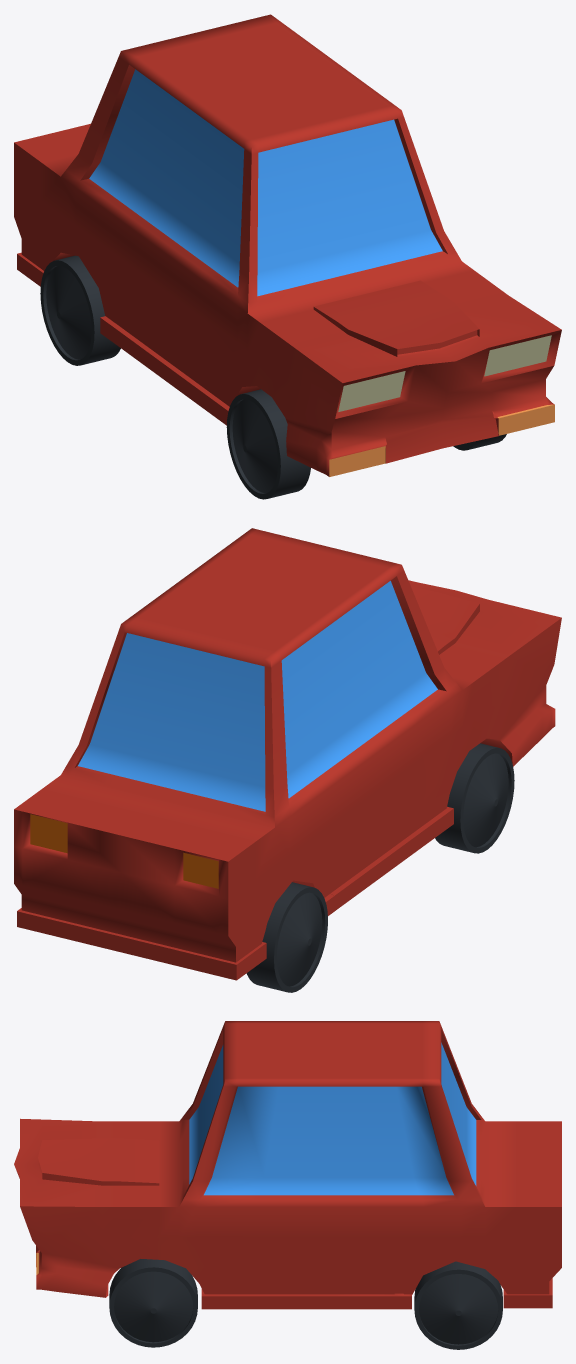
File: Car.fbx
3 renders of one model, top to bottom at view 1: azimuth 30°, elevation 25°; view 2: azimuth 150°, elevation 25°; view 3: azimuth 270°, elevation 25°, orthographic. The views are drawn at different scales.
Parts seen in each view (by area): view 1: Cube, RightFrontWheel, RightBackWheel; view 2: Cube, RightBackWheel, RightFrontWheel; view 3: Cube, LeftFrontWheel, LeftBackWheel.
Part boxes in pixels (box(x1,y1,x2,y2)): Cube: box(14, 14, 561, 476); RightFrontWheel: box(226, 389, 310, 499); RightBackWheel: box(40, 255, 120, 365); Cube: box(14, 528, 561, 980); RightBackWheel: box(246, 882, 327, 992); RightFrontWheel: box(435, 743, 514, 853); Cube: box(14, 1021, 561, 1309); LeftFrontWheel: box(109, 1259, 197, 1347); LeftBackWheel: box(414, 1261, 502, 1349).
Bounding box in the file's own units: 12.38 × 14.75 × 28.91.
